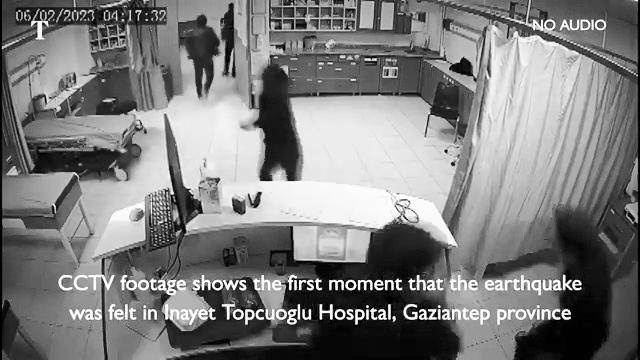berlari: (238, 64, 304, 182), (185, 12, 219, 100)
